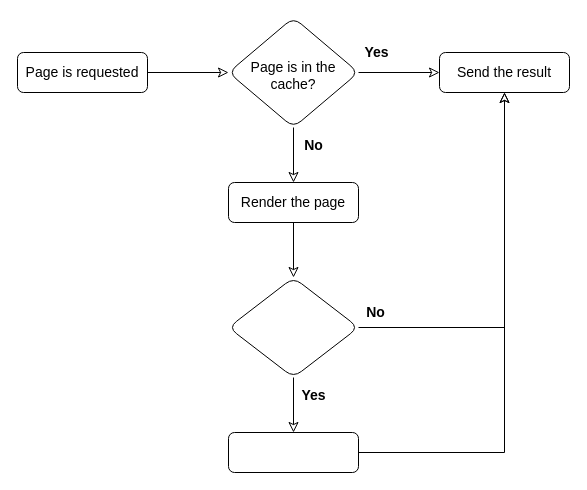
The diagram is 587 pixels wide and 490 high, and some of its shapes have lost their labels. Each missing label, with the box of its shape:
Page contains tags?: (228, 276, 358, 378)
Save page in cache: (228, 432, 358, 472)
